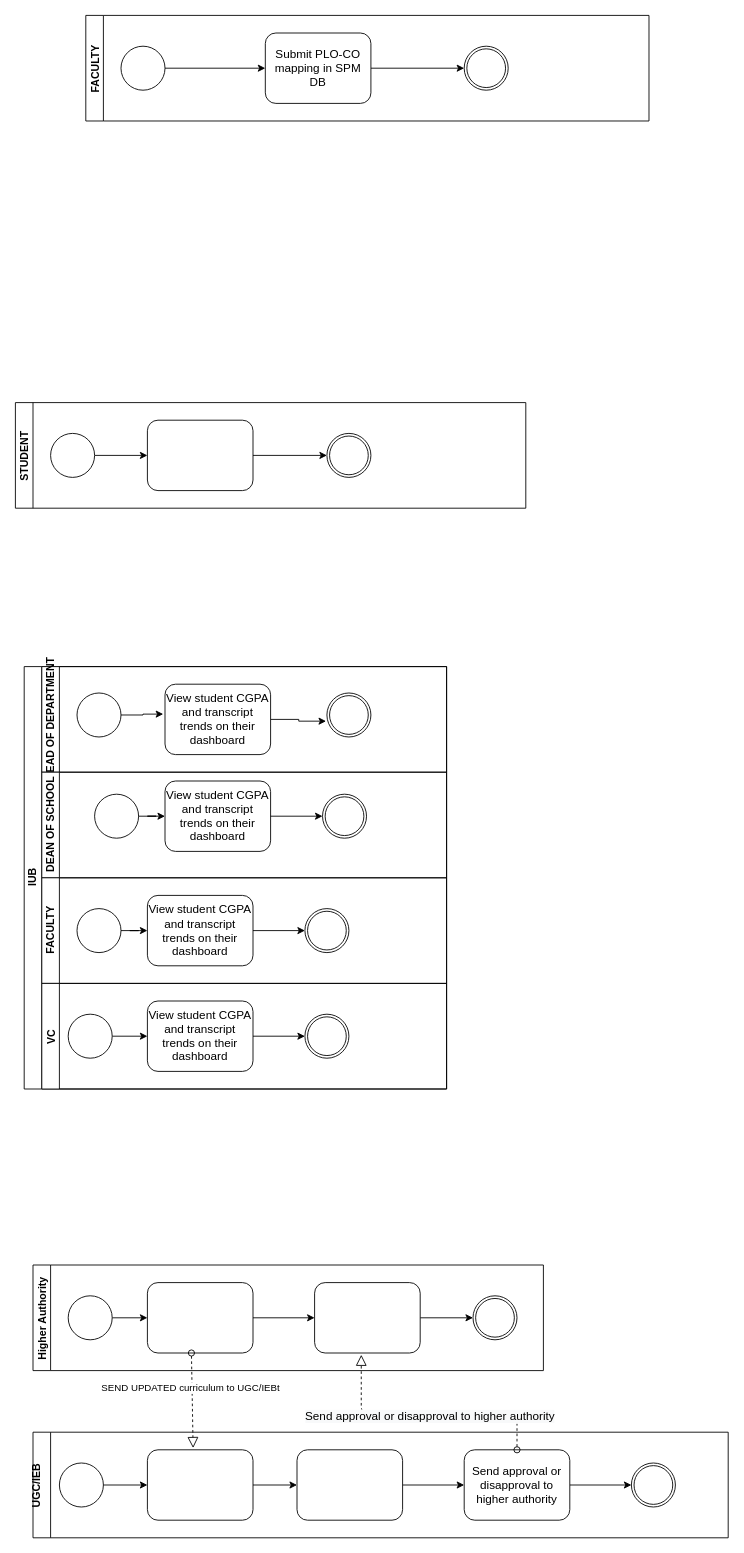
Image size: 744x1553. Some labels were removed from this diagram. Each missing label, with the centre of its shape:
Analyze the curriculum: [349,1484]
Receive approval or denial of curriculum from UGC/IEB: [367,1317]
received updated curriculum to UGC/IEB: [200,1484]
Retrieve updated curriculum from SPM DB: [200,1317]
View their individual student CGPA and transcript: [200,455]
